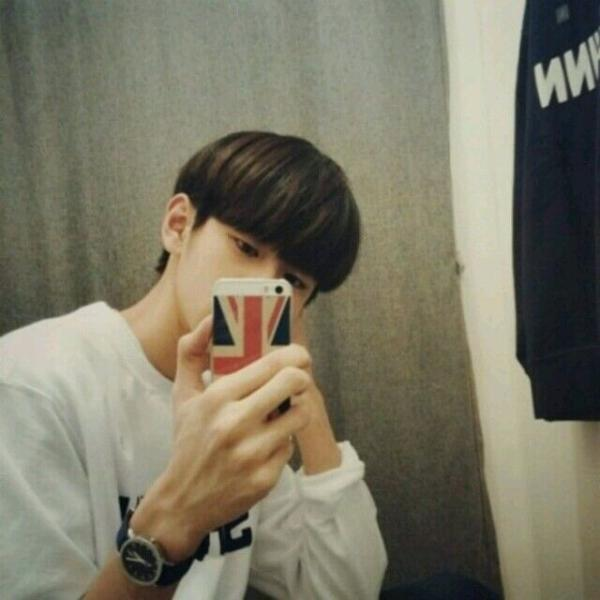face: (185, 191, 319, 363)
